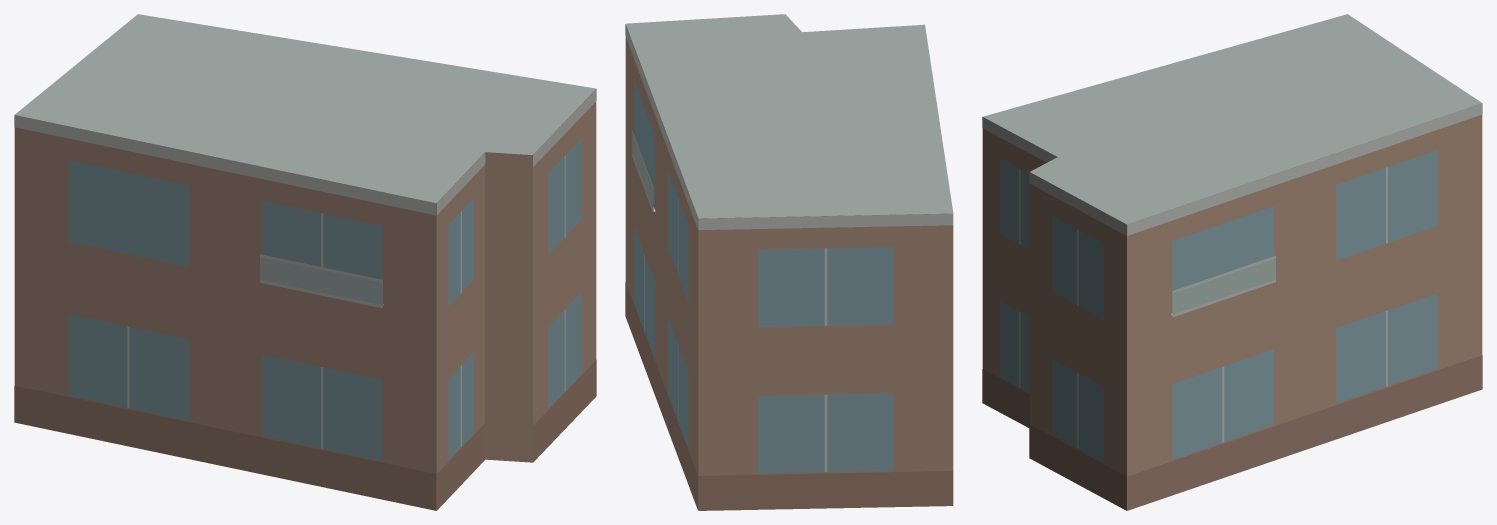
File: survey-upis-32766253.glb
The picture shows the model from 3 angles, left to right: view 1: azimuth 30°, elevation 25°; view 2: azimuth 150°, elevation 25°; view 3: azimuth 270°, elevation 25°; orthographic projection. The views are drawn at different scales.
Visible parts, largest first — view 1: survey-upis-32766253.tmp; view 2: survey-upis-32766253.tmp; view 3: survey-upis-32766253.tmp.
Part boxes in pixels (bbox=[...]): survey-upis-32766253.tmp: bbox=[14, 14, 596, 510]; survey-upis-32766253.tmp: bbox=[625, 14, 953, 510]; survey-upis-32766253.tmp: bbox=[982, 14, 1482, 510].
Bounding box in the file's own units: 9.63 × 6.1 × 9.66.
